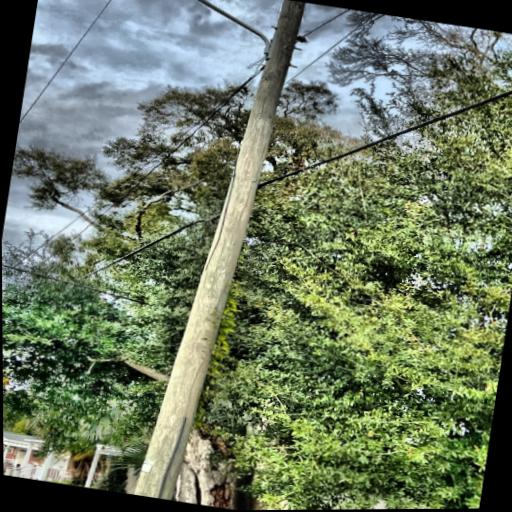pole: (86, 0, 324, 511)
street light: (106, 0, 287, 62)
